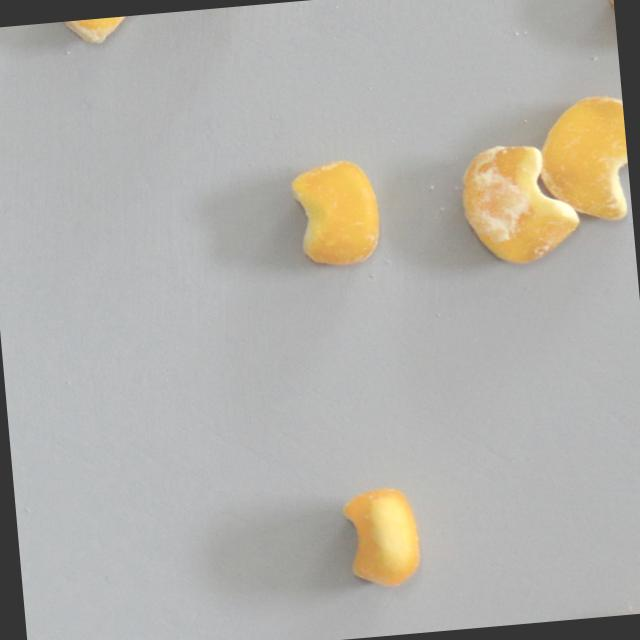no_canjicado: (340, 484, 424, 590)
pelicula: (457, 138, 583, 268), (530, 93, 632, 227), (286, 156, 384, 268), (44, 14, 149, 48)
